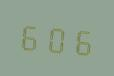six: (18, 16, 42, 54), (69, 21, 93, 59)
zero: (44, 18, 68, 56)
